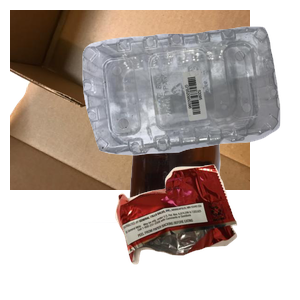cardboard: (10, 10, 250, 190)
glass: (29, 120, 242, 300)
plastic: (80, 24, 300, 172)
trash: (113, 162, 300, 300)
